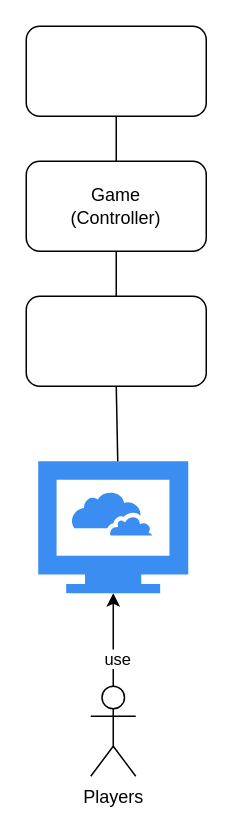
This 233x834 diagram has some shape labels left out. The shapes that lost their labels are listed below. From the top down, each one's centre as x and y in pixels, then its label:
the point at 115,70: JSON file (Model)
the point at 115,340: Var (View)
